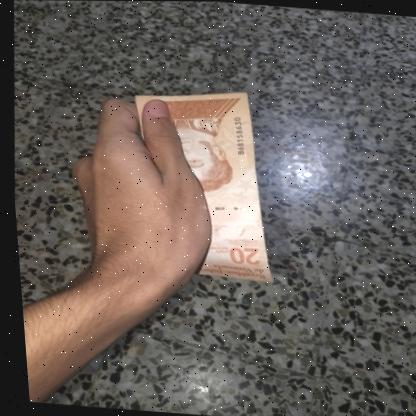twenty-front-vef: (121, 82, 282, 282)
